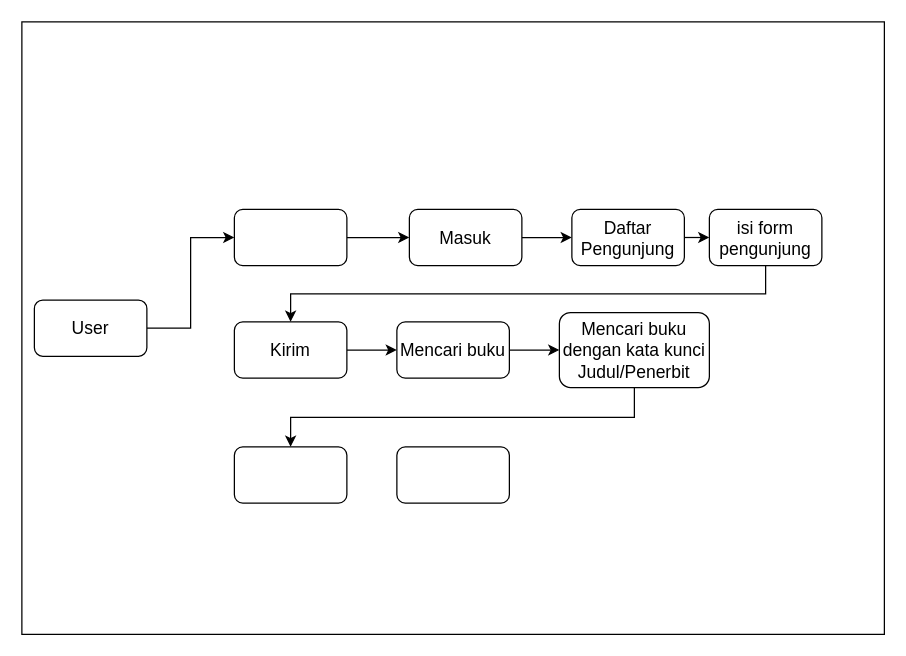
The diagram is 906 pixels wide and 656 high, and some of its shapes have lost their labels. Each missing label, with the centre of its shape:
"Daftar/Login" goes at point 290,237.
"Hasil Pencarian" goes at point 290,474.
"Rincian Buku" goes at point 452,474.
